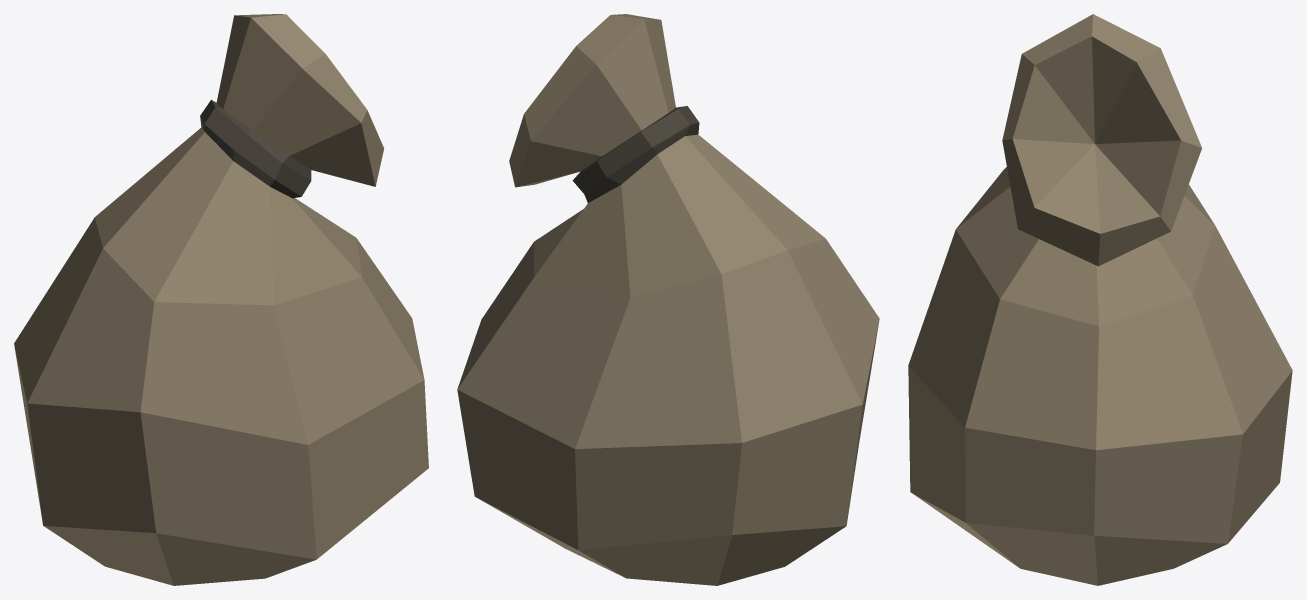
Rendered from Bag_2.fbx.
3 views of the same model, side by side, from view 1: azimuth 30°, elevation 25°; view 2: azimuth 150°, elevation 25°; view 3: azimuth 270°, elevation 25° (orthographic). The views are drawn at different scales.
Visible parts, largest first — view 1: Bag_2; view 2: Bag_2; view 3: Bag_2.
Part boxes in pixels (bbox=[...]): Bag_2: bbox=[14, 14, 428, 585]; Bag_2: bbox=[457, 14, 879, 585]; Bag_2: bbox=[908, 14, 1292, 585].
Bounding box in the file's own units: 52.93 × 67.75 × 44.17.
